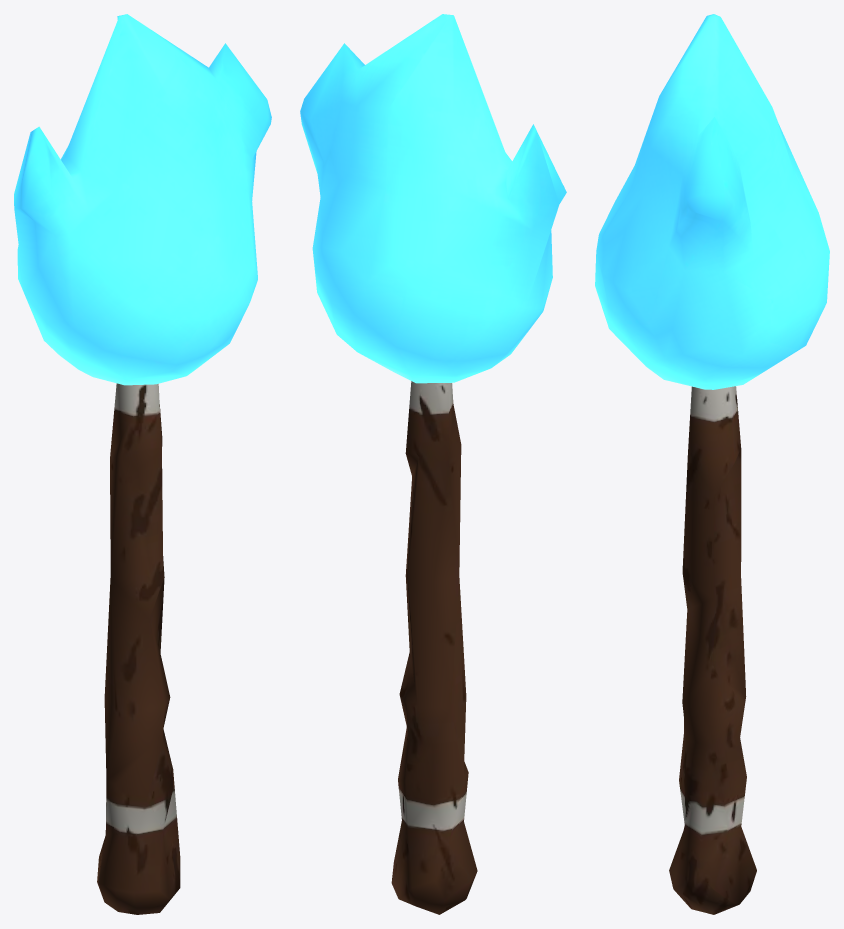
Rendered from mage-wand.glb.
3 views of the same model, side by side, from view 1: azimuth 30°, elevation 25°; view 2: azimuth 150°, elevation 25°; view 3: azimuth 270°, elevation 25° (orthographic).
Visible parts, largest first — view 1: glow, wand; view 2: glow, wand; view 3: glow, wand.
Boxes of the visible parts, x1,y1,x2,y2 form: glow: (14, 14, 271, 385); wand: (97, 383, 180, 914); glow: (300, 14, 566, 383); wand: (391, 381, 477, 914); glow: (595, 14, 829, 389); wand: (669, 386, 756, 914).
Bounding box in the file's own units: 0.1052 × 0.3557 × 0.0857.
2 materials, 2 textured.
